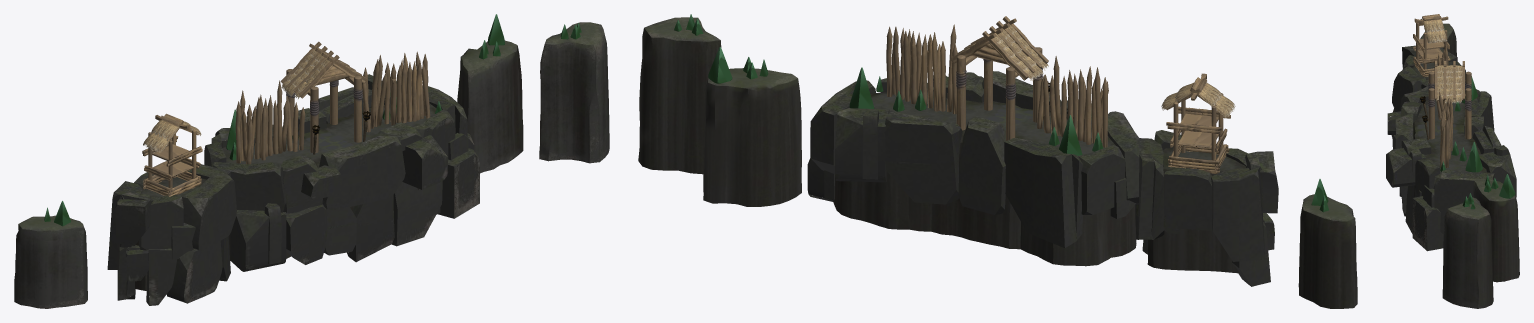
The model's file is fort.glb.
3 renders of one model, left to right at view 1: azimuth 30°, elevation 25°; view 2: azimuth 150°, elevation 25°; view 3: azimuth 270°, elevation 25°, orthographic. The views are drawn at different scales.
Parts seen in each view (by area): view 1: fort; view 2: fort; view 3: fort.
Part boxes in pixels (left/top/right/bottom): fort: left=14, top=14, right=609, bottom=308; fort: left=638, top=14, right=1357, bottom=308; fort: left=1386, top=14, right=1519, bottom=308.
Size of the model in its own units: 5.46 by 1.62 by 1.35.
9 materials, 9 textured.
